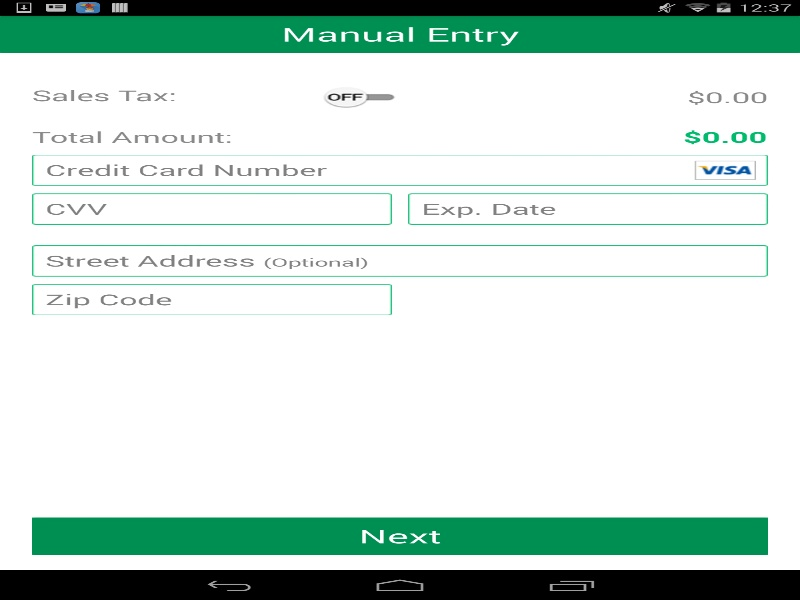Input: (32, 154, 768, 185), (32, 245, 768, 276), (32, 193, 392, 224), (408, 193, 768, 224), (32, 284, 392, 315)
